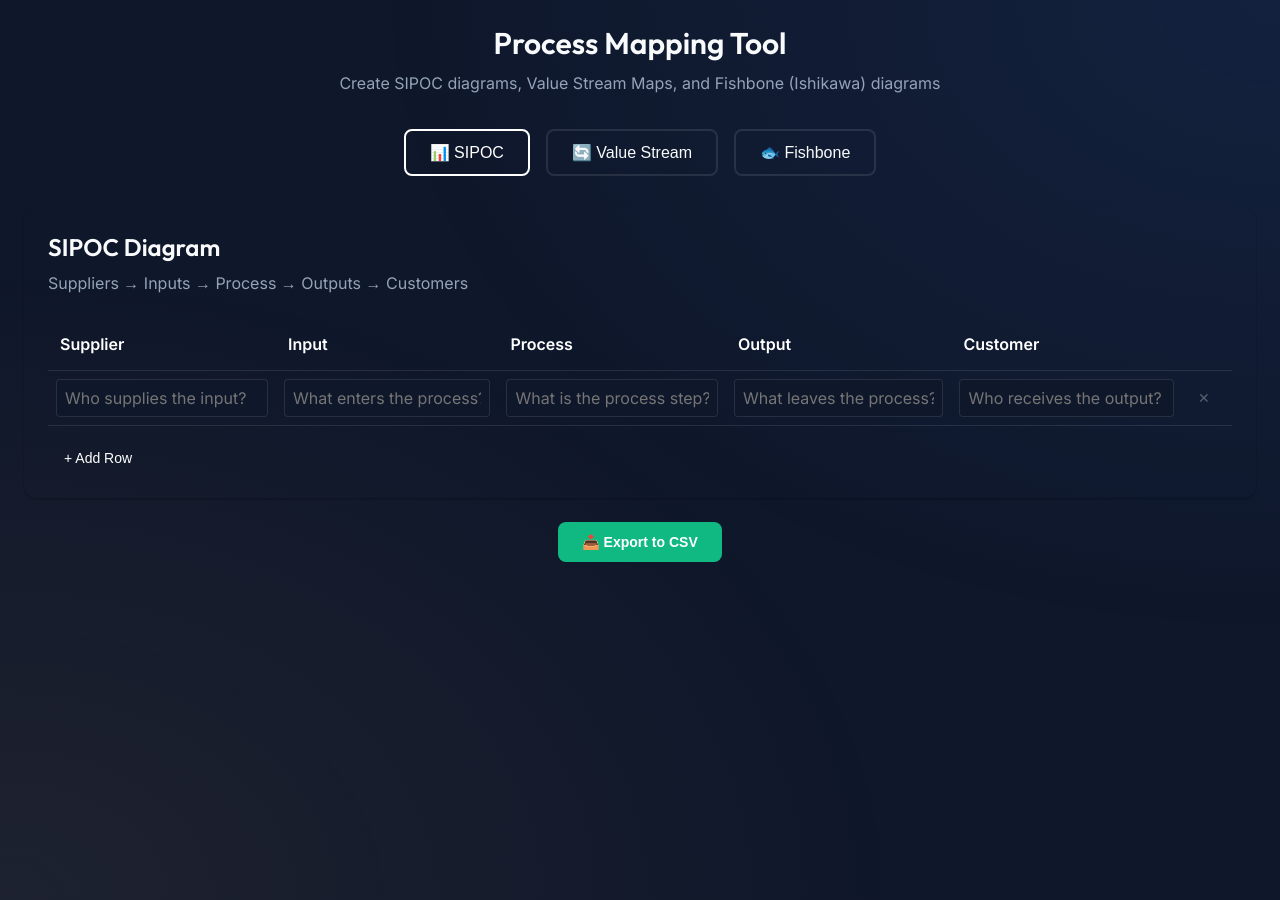
Test: ProcessMapping › Diagram Type Switching › switches to Value Stream when button clicked
Click the button "🔄 Value Stream" at (632, 152), box [546,129,718,176]
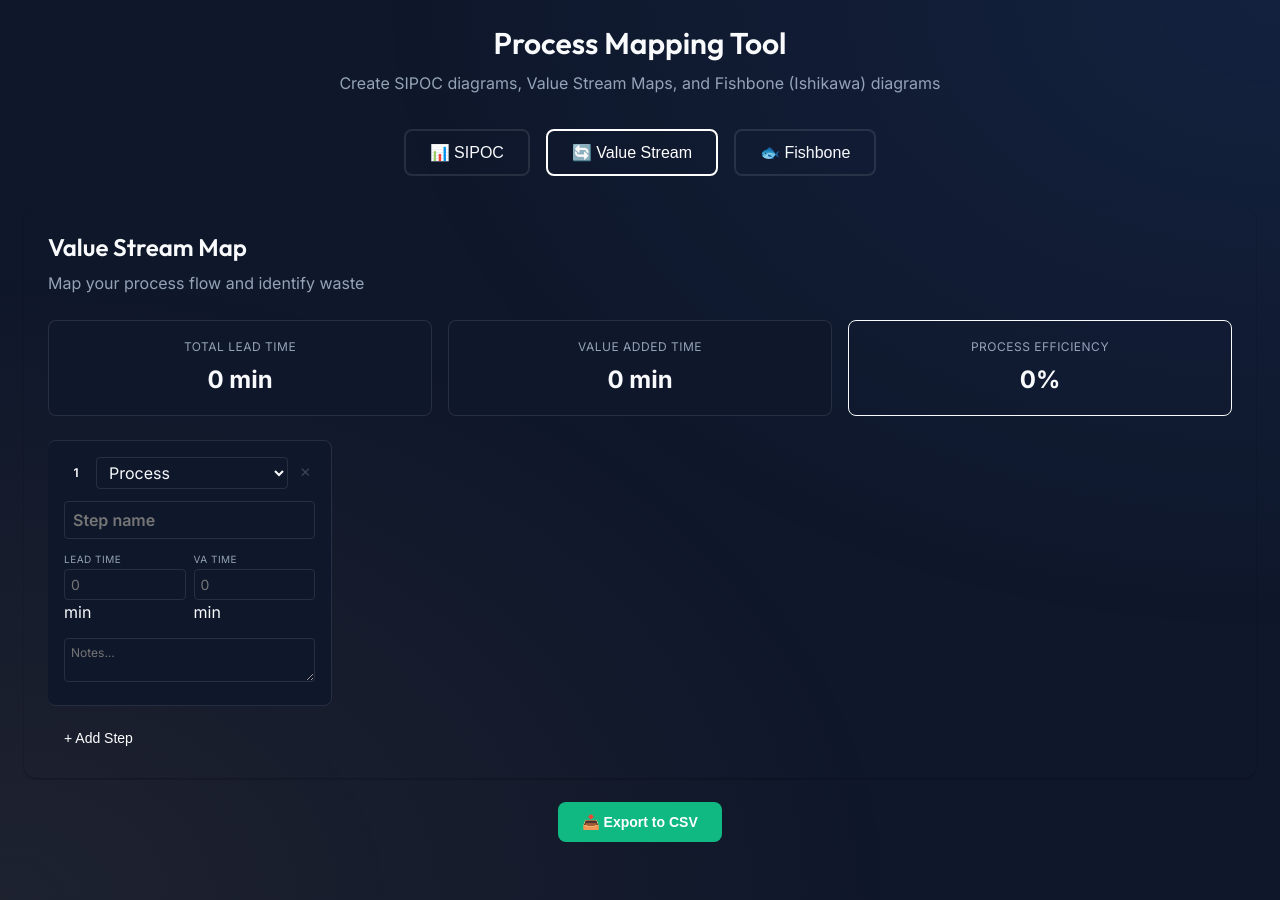
Expected: the heading "Value Stream Map" is shown, [48,232,247,262]
